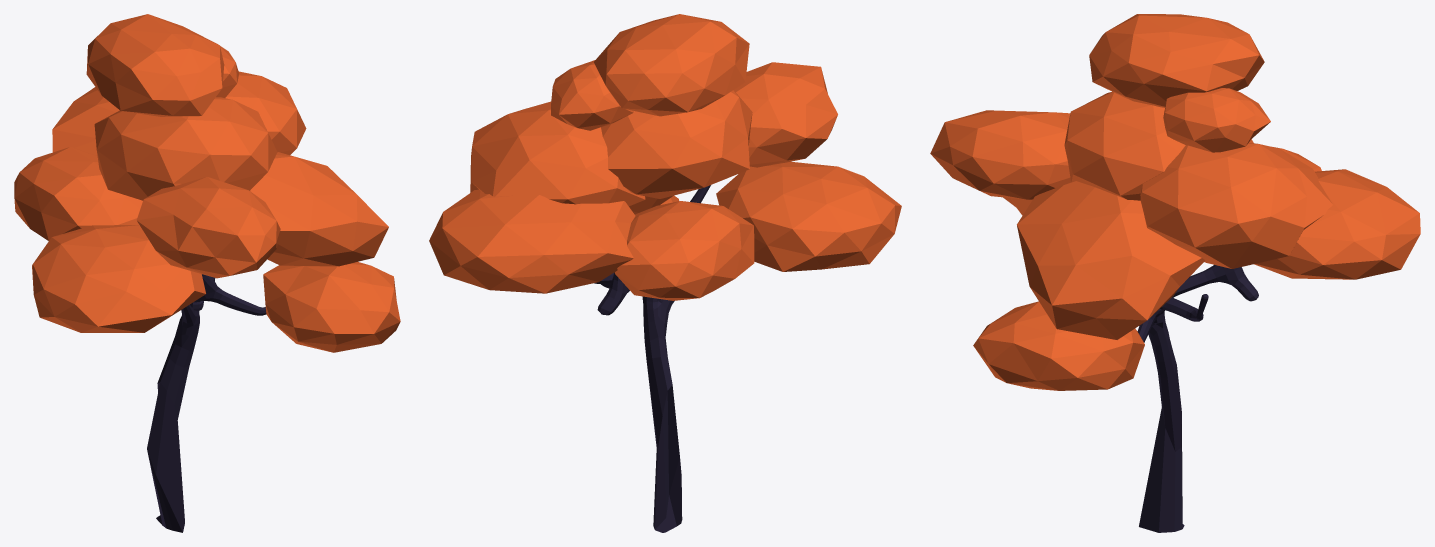
Rendered from env_tree_type3_v2.fbx.
3 views of the same model, side by side, from view 1: azimuth 30°, elevation 25°; view 2: azimuth 150°, elevation 25°; view 3: azimuth 270°, elevation 25° (orthographic). The views are drawn at different scales.
Visible parts, largest first — view 1: leaves 3, trunk 3; view 2: leaves 3, trunk 3; view 3: leaves 3, trunk 3.
Part boxes in pixels (box(x1,y1,x2,y2)): leaves 3: box(14, 14, 400, 352); trunk 3: box(147, 274, 266, 532); leaves 3: box(429, 14, 901, 300); trunk 3: box(594, 185, 710, 532); leaves 3: box(930, 14, 1420, 390); trunk 3: box(1137, 265, 1258, 532).
Size of the model in its own units: 1134 by 1550 by 1385.
